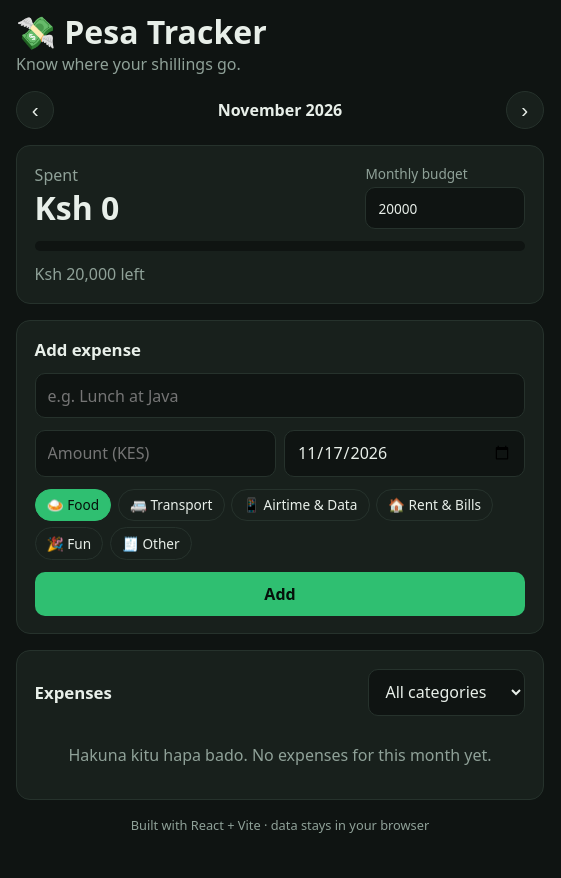
Test case: Pesa Tracker › shows an error for an invalid amount
This screenshot has width=561, height=878.
In the field with placeholder "e.g. Lunch at Java": point(280, 396) [35, 373, 525, 418], type "Lunch"
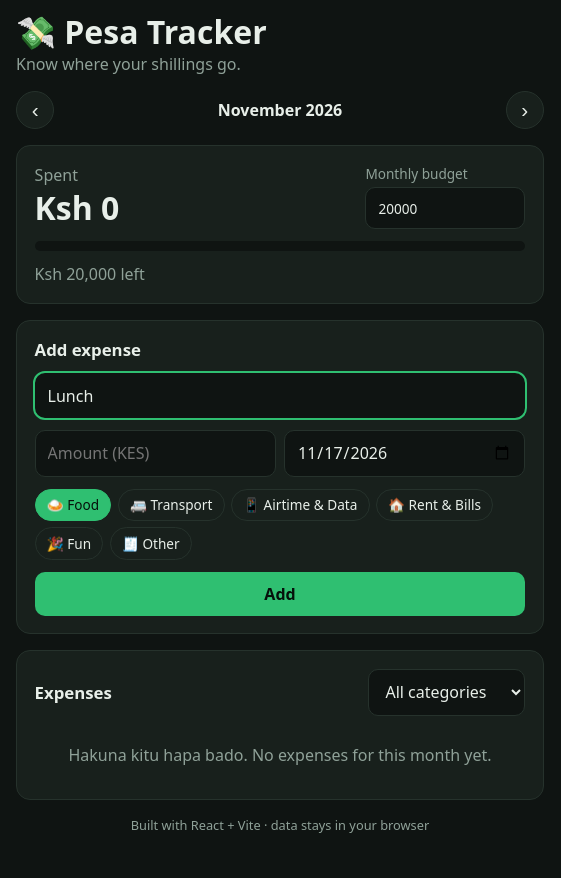
Click the button "Add": point(280, 594) [35, 572, 525, 616]
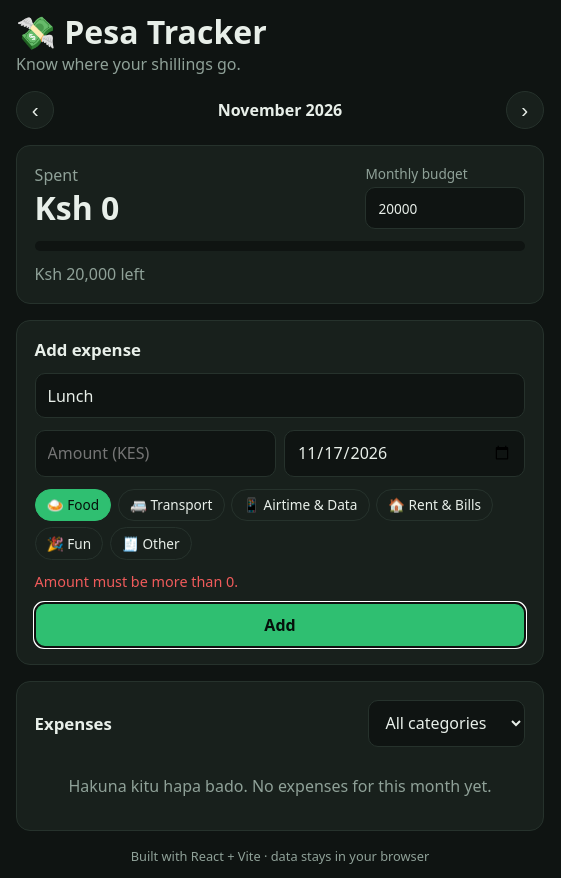
expect the text "Amount must be more than 0." is shown: met, box [35, 572, 238, 590]
